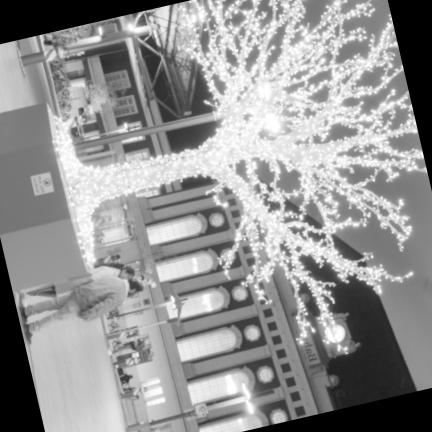Shahed: (169, 290, 185, 328)
